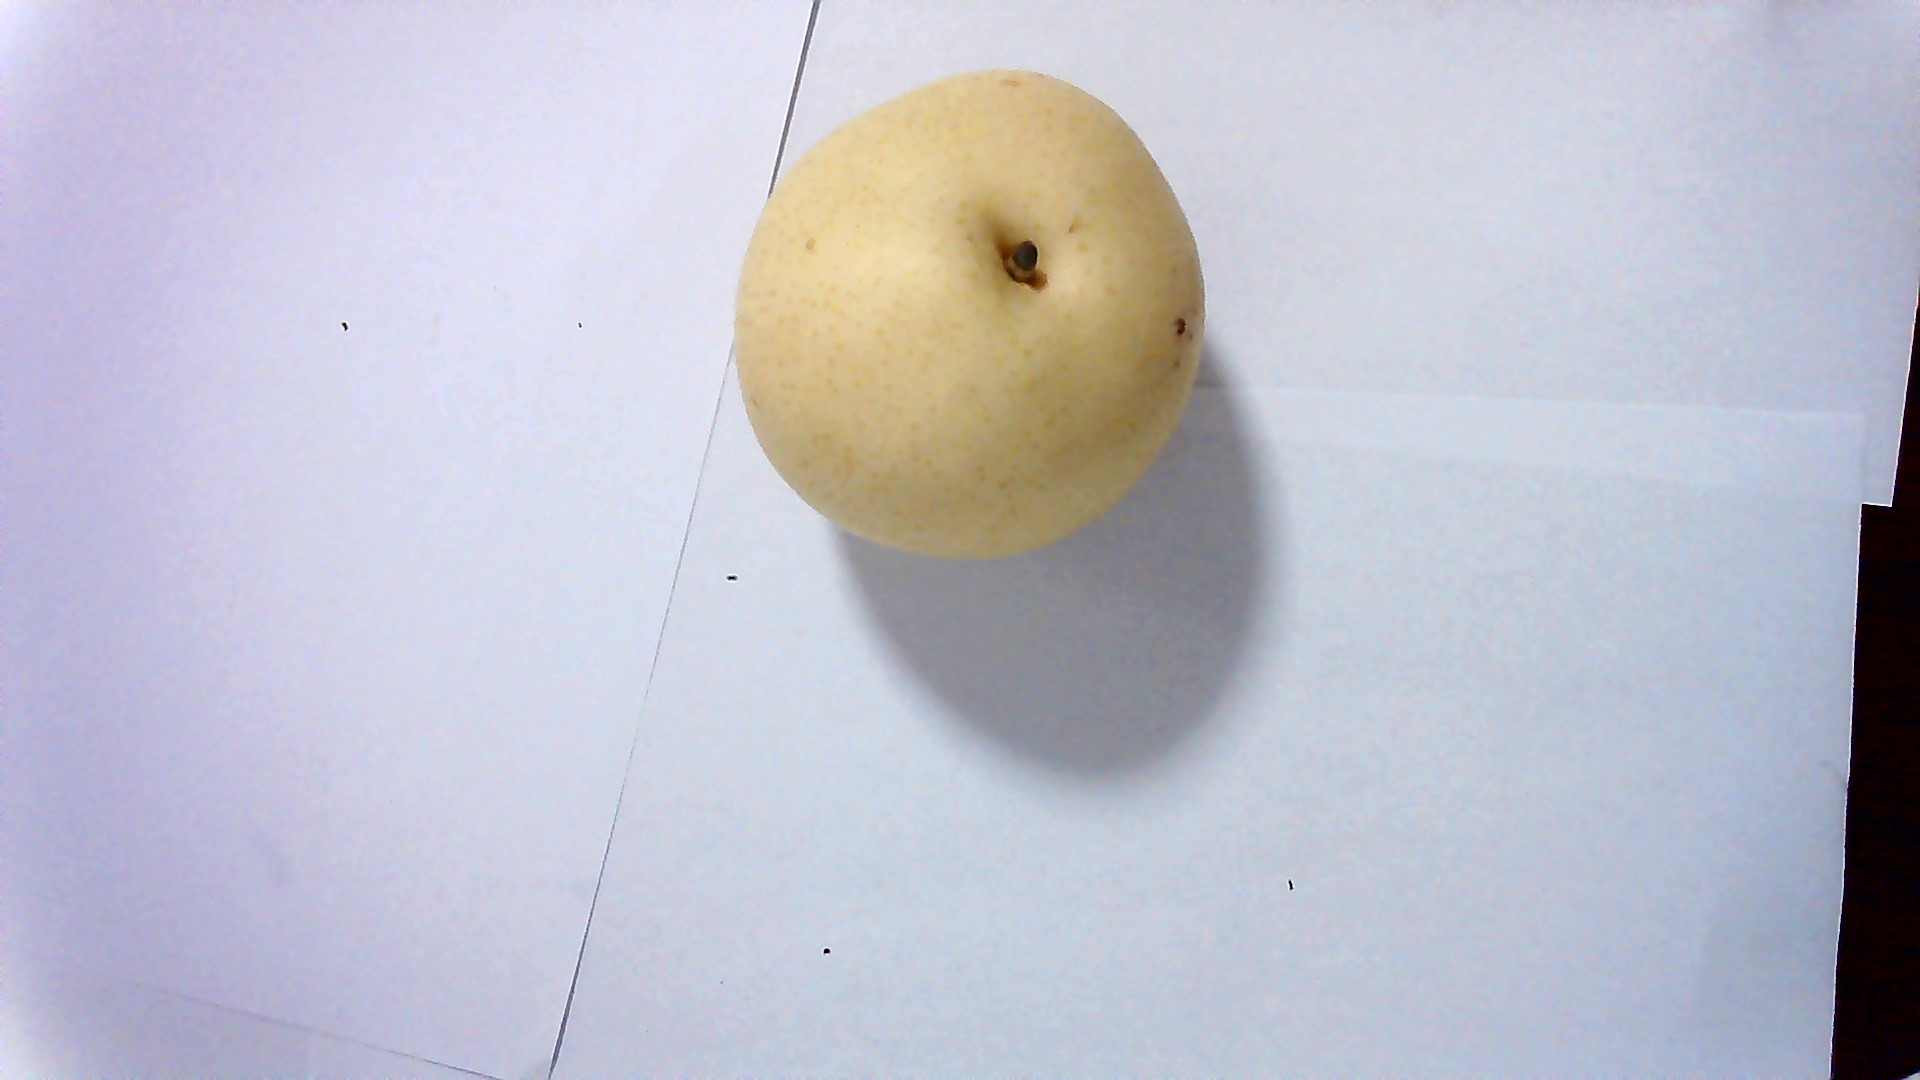pear: (746, 76, 1222, 563)
